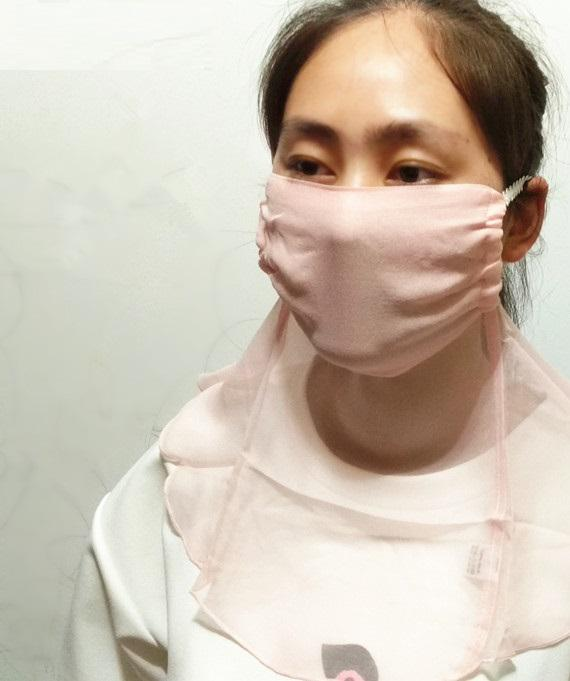OK: (268, 83, 508, 375)
